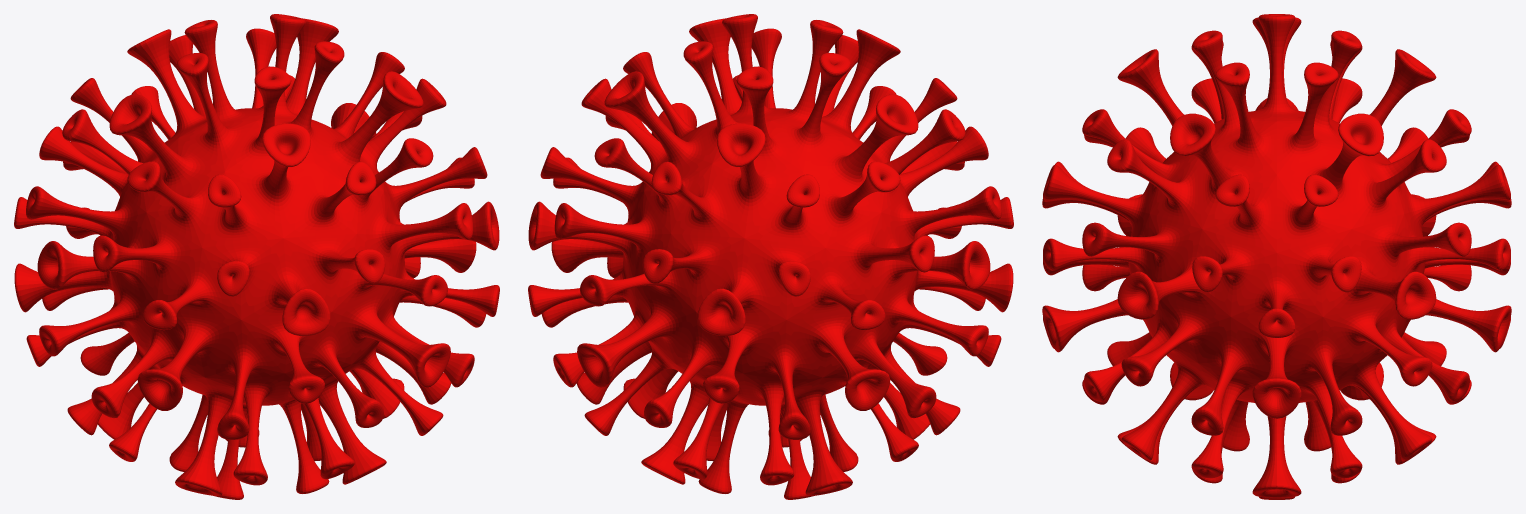
Rendered from virus_3d_model.glb.
The picture shows the model from 3 angles, left to right: view 1: azimuth 30°, elevation 25°; view 2: azimuth 150°, elevation 25°; view 3: azimuth 270°, elevation 25°; orthographic projection.
Parts seen in each view (by area): view 1: Icosphere_2; view 2: Icosphere_2; view 3: Icosphere_2.
Part boxes in pixels (<box>): Icosphere_2: <box>14,14,499,499</box>; Icosphere_2: <box>528,14,1013,499</box>; Icosphere_2: <box>1042,14,1511,499</box>.
Bounding box in the file's own units: 3.12 × 3.05 × 3.02.
